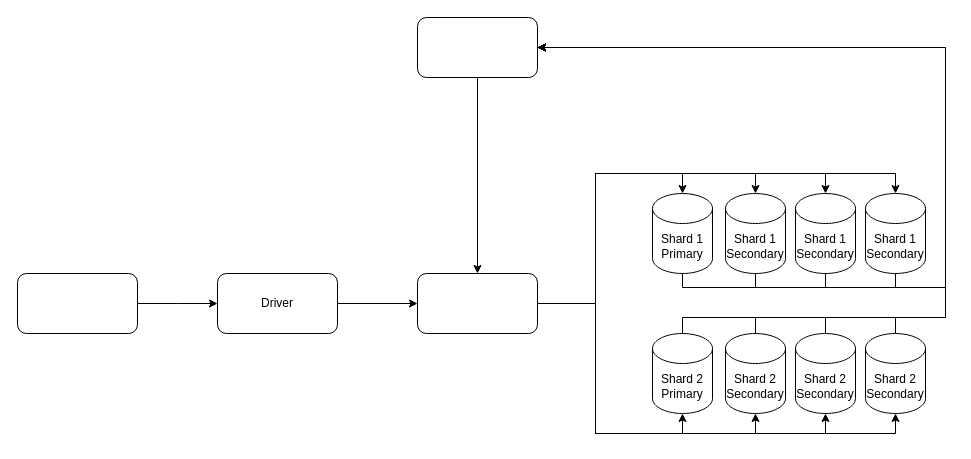
This 971x459 diagram has some shape labels left out. The shapes that lost their labels are listed below. From the top down, each one's box as (x1, y1, x2, y2) in pixels, then its label:
(416, 16, 538, 78): Config Server
(16, 272, 138, 334): pymongo-api
(416, 272, 538, 334): Router
